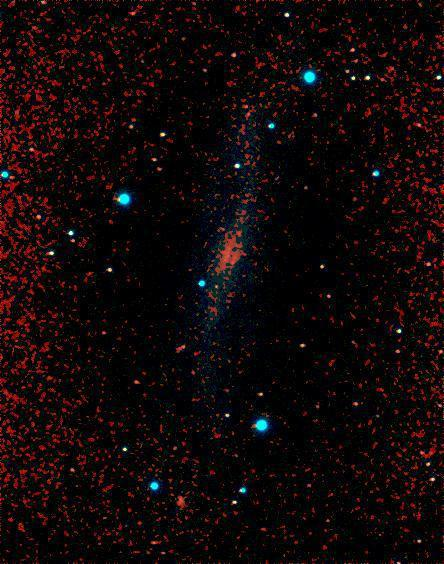star: (223, 218, 253, 248)
